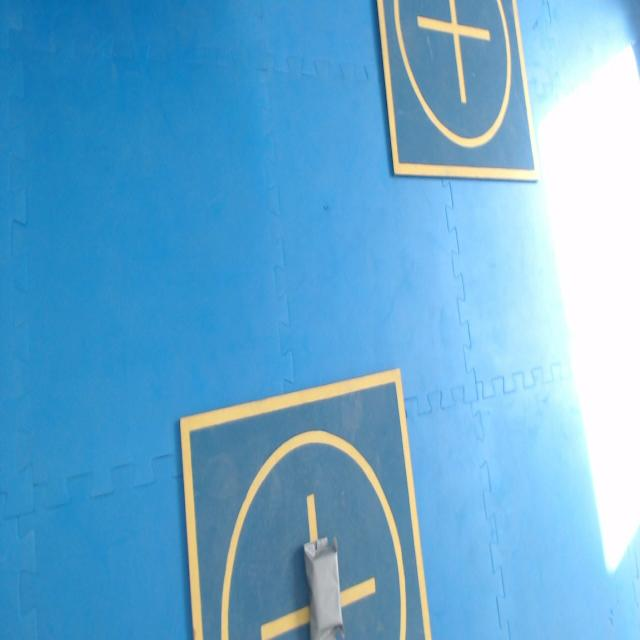lipo: (304, 537, 343, 639)
